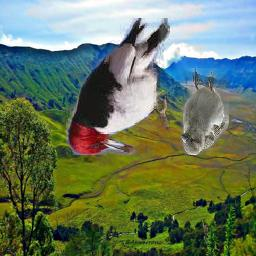Sparrow: (181, 69, 230, 156)
Woodpecker: (66, 19, 170, 156)
